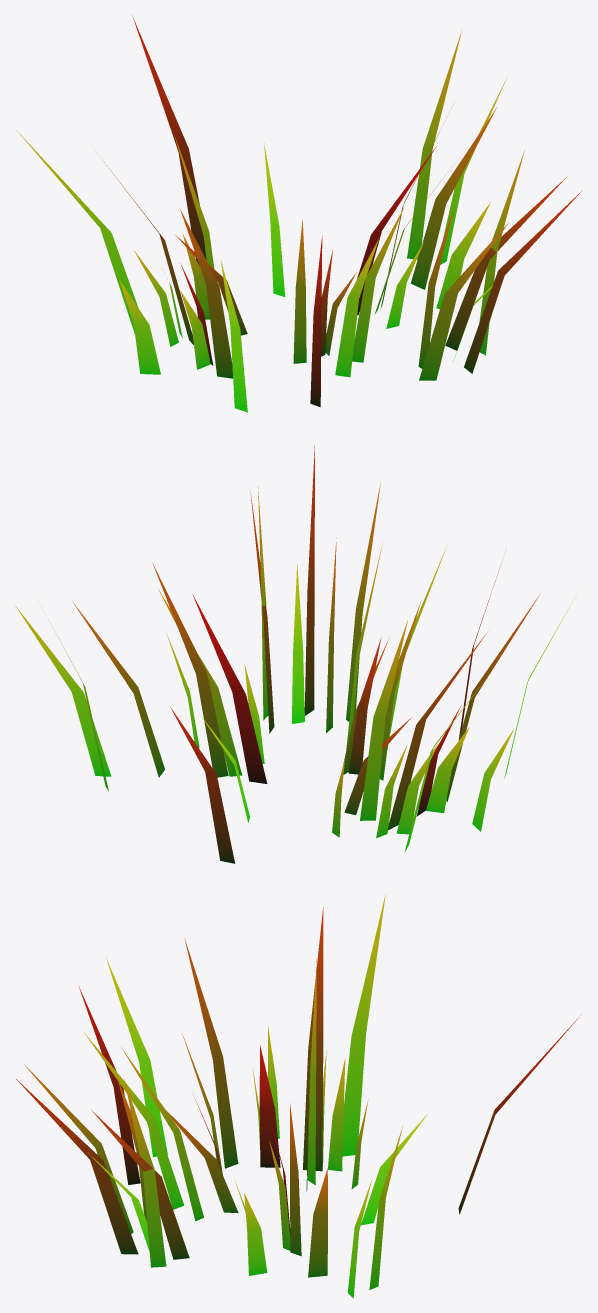
Rendered from SM_GrassClump.fbx.
3 renders of one model, top to bottom at view 1: azimuth 30°, elevation 25°; view 2: azimuth 150°, elevation 25°; view 3: azimuth 270°, elevation 25°, orthographic. The views are drawn at different scales.
Visible parts, largest first — view 1: SM_GrassClump; view 2: SM_GrassClump; view 3: SM_GrassClump.
Boxes of the visible parts, <box> form: SM_GrassClump: <box>16,15,582,412</box>; SM_GrassClump: <box>15,445,577,863</box>; SM_GrassClump: <box>16,894,581,1298</box>.
Size of the model in its own units: 0.422 by 0.1877 by 0.4483.
